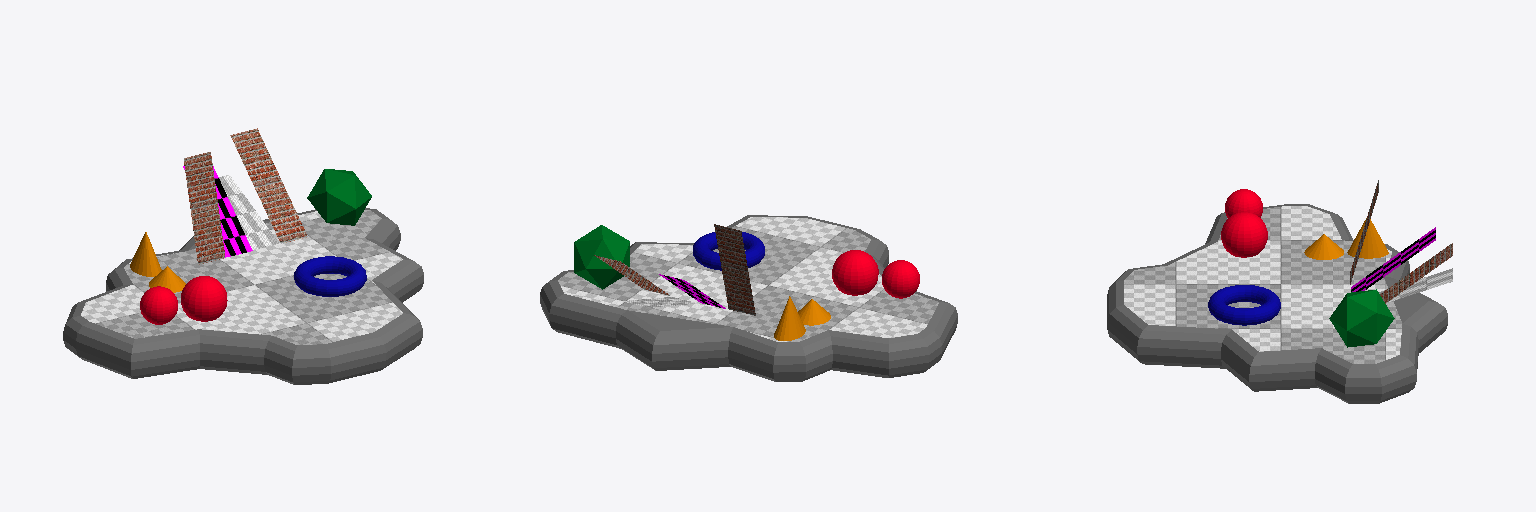
3 renders of one model, left to right at view 1: azimuth 30°, elevation 25°; view 2: azimuth 150°, elevation 25°; view 3: azimuth 270°, elevation 25°, orthographic.
Parts seen in each view (by area): view 1: Playground:Terrain, Playground:Ramp4, Playground:Ramp1, Playground:Isosohedron, Playground:Torus, Playground:SmoothSphere, Playground:Ramp3, Playground:Ramp2, Playground:HardSphere, Playground:PointySpike, Playground:NotSoPointySpike; view 2: Playground:Terrain, Playground:Isosohedron, Playground:Ramp1, Playground:SmoothSphere, Playground:Torus, Playground:HardSphere, Playground:PointySpike, Playground:Ramp4, Playground:NotSoPointySpike; view 3: Playground:Terrain, Playground:Isosohedron, Playground:Torus, Playground:SmoothSphere, Playground:Ramp2, Playground:Ramp4, Playground:PointySpike, Playground:HardSphere, Playground:Ramp3, Playground:NotSoPointySpike.
Boxes of the visible parts, x1=… form: Playground:Terrain: x1=63, y1=208, x2=423, y2=384; Playground:Ramp4: x1=230, y1=128, x2=307, y2=243; Playground:Ramp1: x1=184, y1=152, x2=224, y2=264; Playground:Isosohedron: x1=307, y1=169, x2=371, y2=225; Playground:Torus: x1=294, y1=256, x2=366, y2=296; Playground:SmoothSphere: x1=181, y1=276, x2=227, y2=321; Playground:Ramp3: x1=219, y1=175, x2=278, y2=249; Playground:Ramp2: x1=183, y1=166, x2=252, y2=257; Playground:HardSphere: x1=140, y1=286, x2=177, y2=324; Playground:PointySpike: x1=130, y1=232, x2=161, y2=276; Playground:NotSoPointySpike: x1=149, y1=266, x2=185, y2=292; Playground:Terrain: x1=540, y1=215, x2=957, y2=381; Playground:Isosohedron: x1=574, y1=225, x2=629, y2=289; Playground:Ramp1: x1=714, y1=224, x2=755, y2=315; Playground:SmoothSphere: x1=832, y1=250, x2=878, y2=295; Playground:Torus: x1=693, y1=232, x2=764, y2=270; Playground:HardSphere: x1=882, y1=260, x2=919, y2=298; Playground:PointySpike: x1=774, y1=296, x2=805, y2=340; Playground:Ramp4: x1=594, y1=255, x2=669, y2=295; Playground:NotSoPointySpike: x1=798, y1=299, x2=830, y2=325; Playground:Terrain: x1=1107, y1=204, x2=1447, y2=403; Playground:Isosohedron: x1=1329, y1=289, x2=1394, y2=347; Playground:Torus: x1=1208, y1=285, x2=1280, y2=325; Playground:SmoothSphere: x1=1221, y1=212, x2=1267, y2=257; Playground:Ramp2: x1=1351, y1=227, x2=1435, y2=291; Playground:Ramp4: x1=1380, y1=243, x2=1452, y2=303; Playground:PointySpike: x1=1347, y1=218, x2=1388, y2=258; Playground:HardSphere: x1=1225, y1=189, x2=1262, y2=217; Playground:Ramp3: x1=1379, y1=268, x2=1452, y2=302; Playground:NotSoPointySpike: x1=1304, y1=234, x2=1343, y2=259.
Size of the model in its own units: 31.29 by 11.32 by 26.44.
Materials: 8 (3 with a texture image).